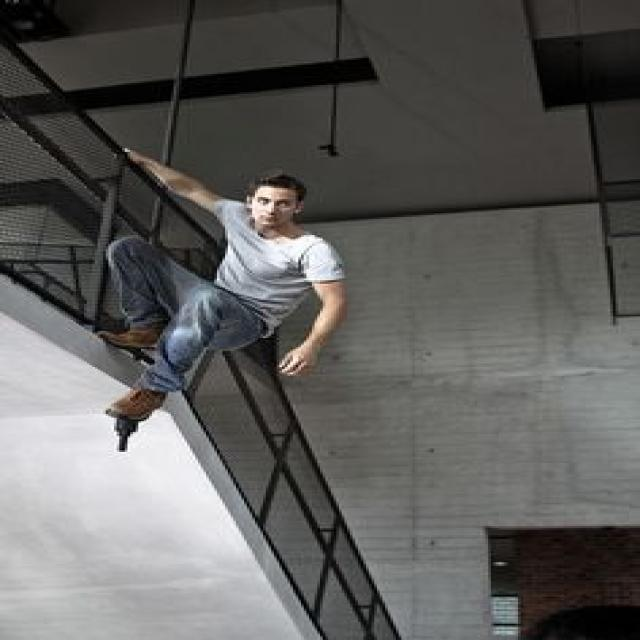stand: (130, 140, 329, 474)
